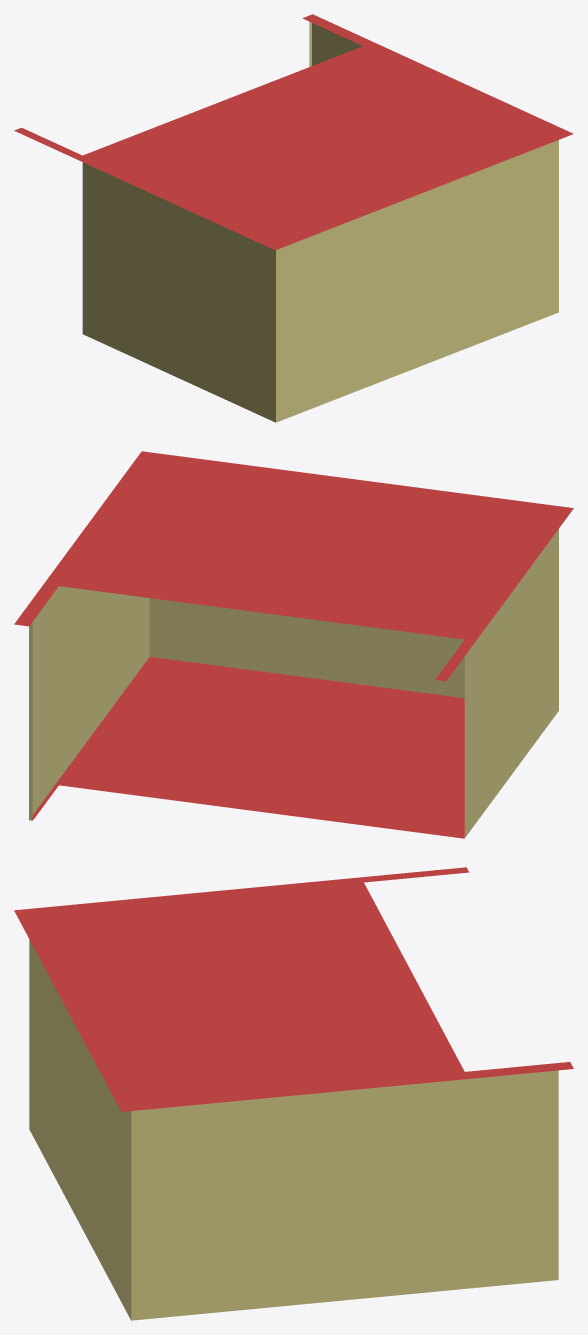
The picture shows the model from 3 angles, top to bottom: view 1: azimuth 30°, elevation 25°; view 2: azimuth 150°, elevation 25°; view 3: azimuth 270°, elevation 25°; orthographic projection. The views are drawn at different scales.
Size of the model in its own units: 11.18 by 10.81 by 4.58.
